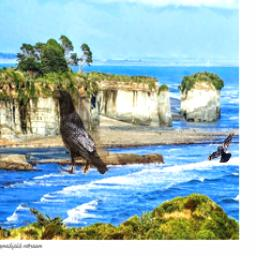Crow: (54, 89, 109, 175), (206, 128, 235, 163)
